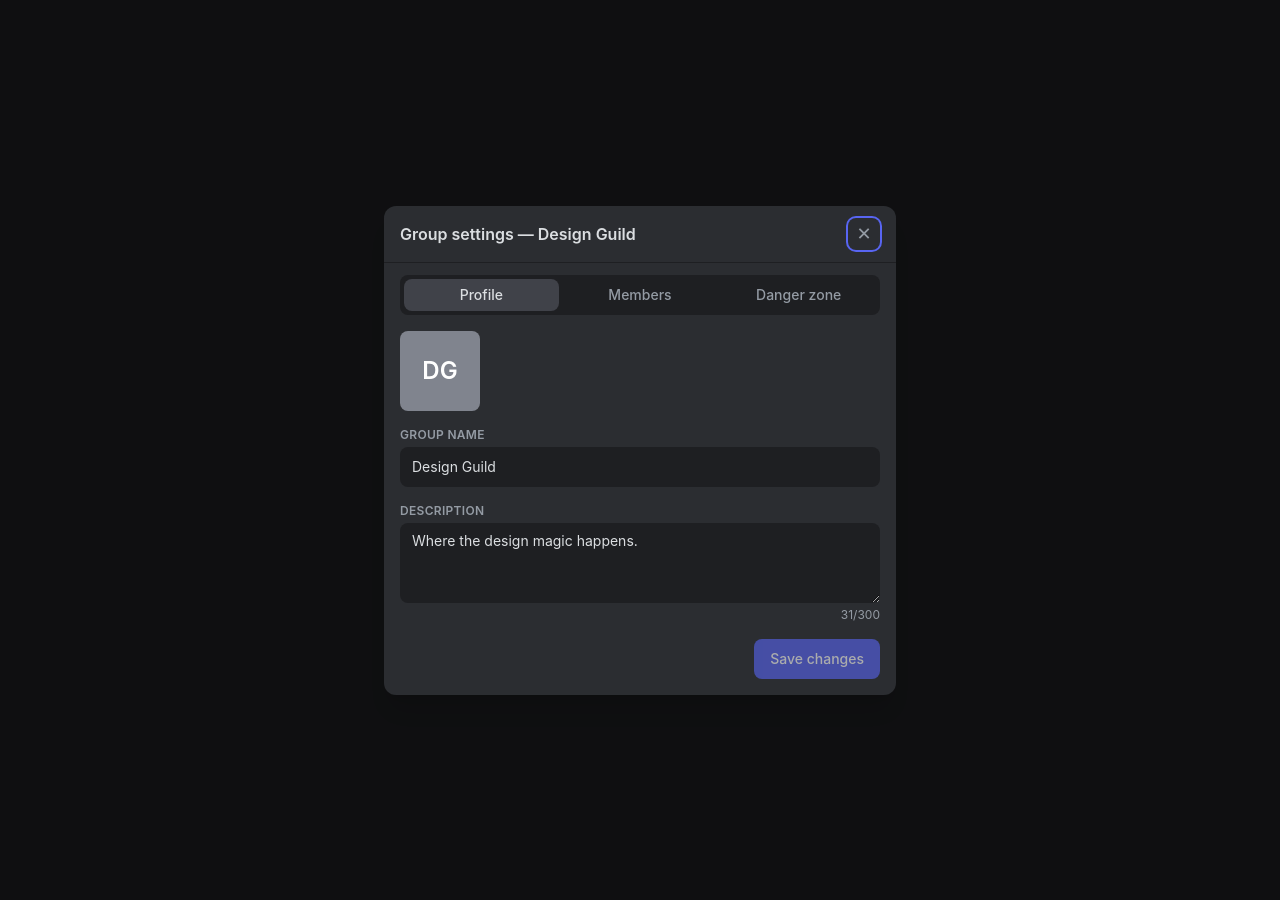
it: GroupSettingsModal › shows member list skeleton while loading, then member rows
Step 1. Click the tab "Members" → x=640, y=294, box [563,278,717,310]
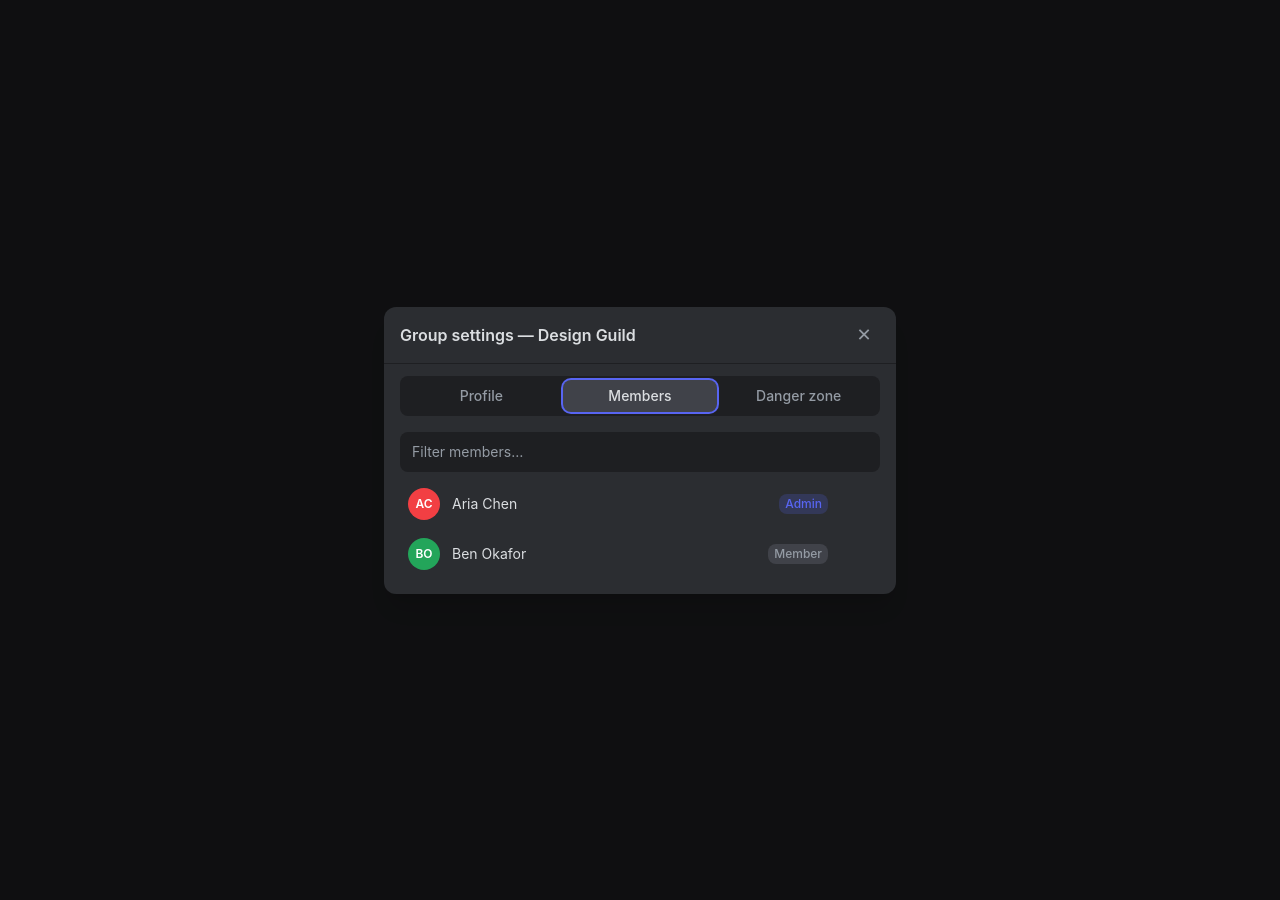
Result: the field labelled "Filter members…" is shown at [400,432,880,472]
